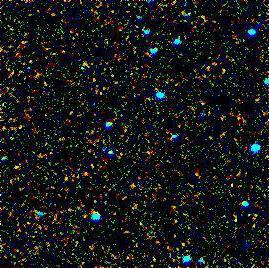star: (67, 203, 97, 233)
